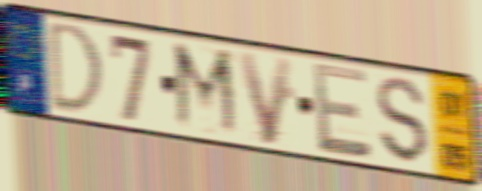7: (107, 29, 155, 125)
D: (47, 18, 106, 116)
E: (310, 59, 375, 162)
M: (170, 38, 243, 143)
S: (374, 74, 431, 168)
V: (234, 49, 295, 149)
